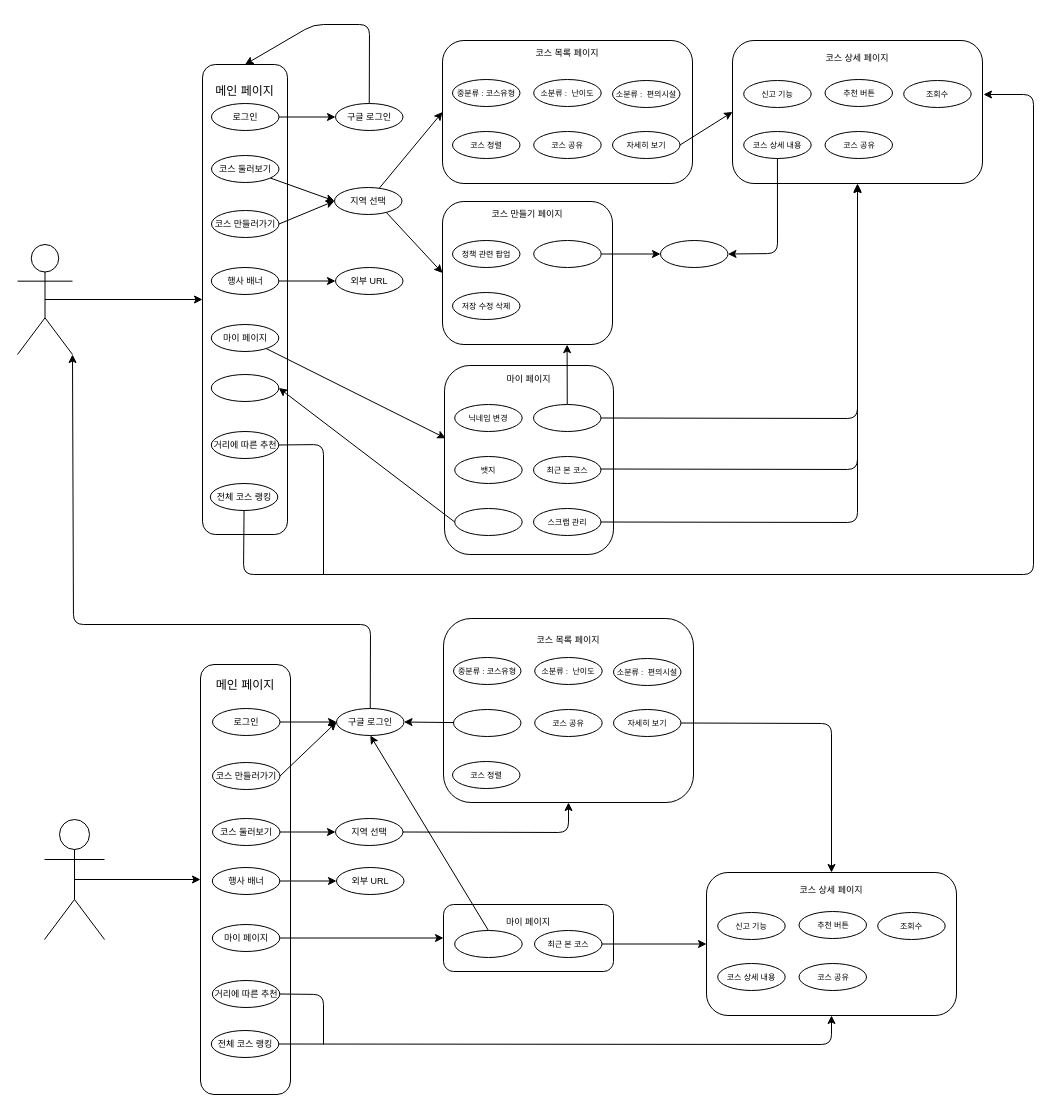
The diagram is 1059 pixels wide and 1112 high, and some of its shapes have lost their labels. Each missing label, with the centre of its shape:
로그아웃: the point at 244,388
비회원: the point at 74,879
스크랩: the point at 486,722
카카오맵: the point at 694,254
코스 관리: the point at 566,418
코스 상세 정보: the point at 567,254
회원: the point at 44,299
회원 정보: the point at 488,944
회원 탈퇴: the point at 488,522
